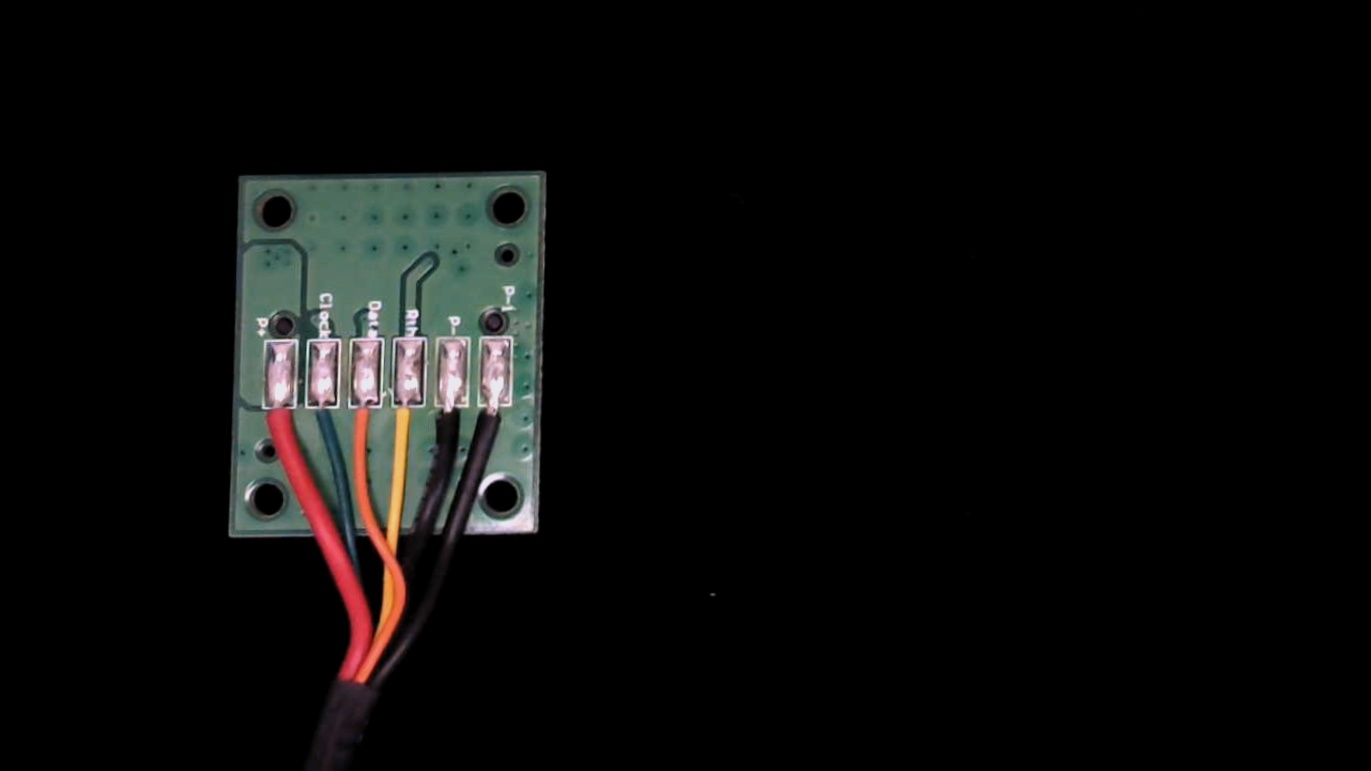Black: (431, 387, 467, 459)
Black1: (477, 388, 516, 461)
Green: (302, 383, 339, 452)
Orange: (345, 385, 381, 453)
Red: (257, 384, 298, 460)
Yellow: (390, 386, 423, 461)
